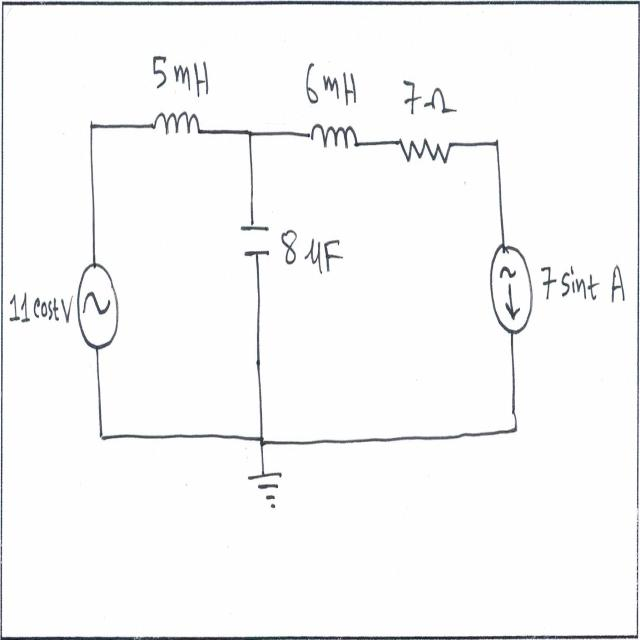ac_current: (74, 258, 122, 358)
capacitor: (233, 211, 277, 278)
current_source: (484, 227, 536, 341)
ground: (243, 464, 292, 520)
inductor: (305, 111, 364, 166), (148, 104, 209, 156)
resistor: (394, 120, 458, 183)
